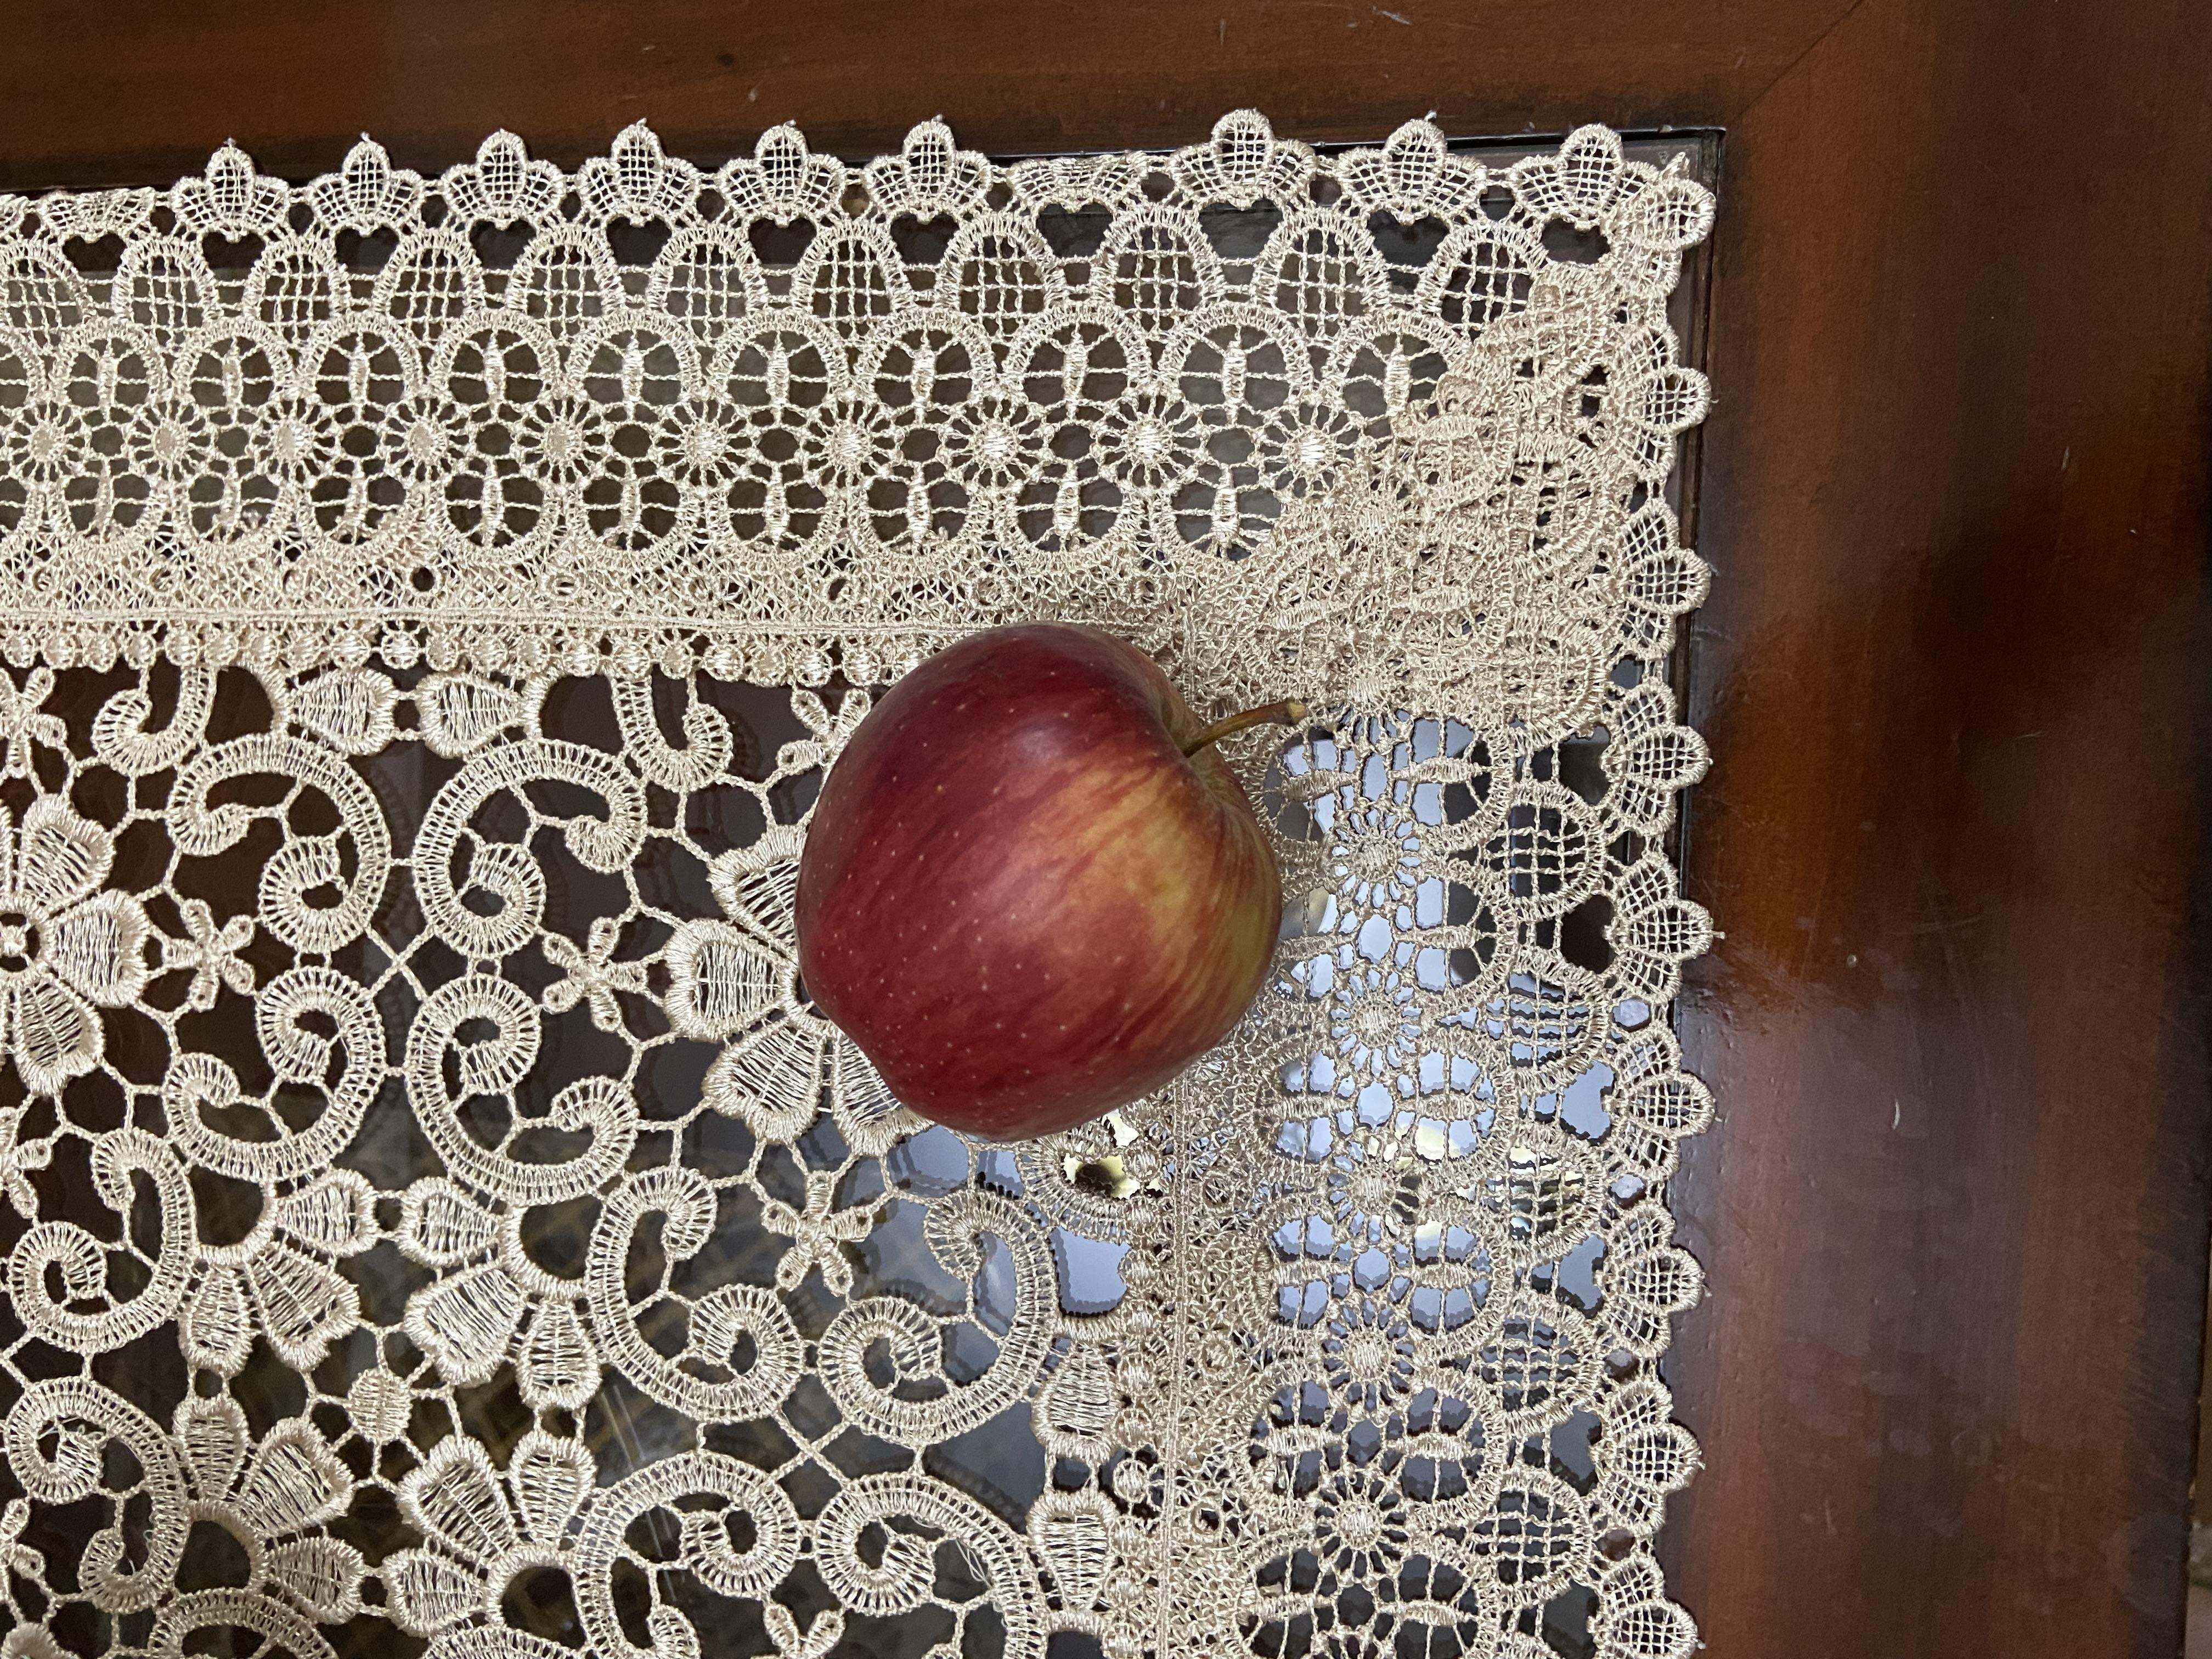Apple: (690, 580, 1406, 992)
